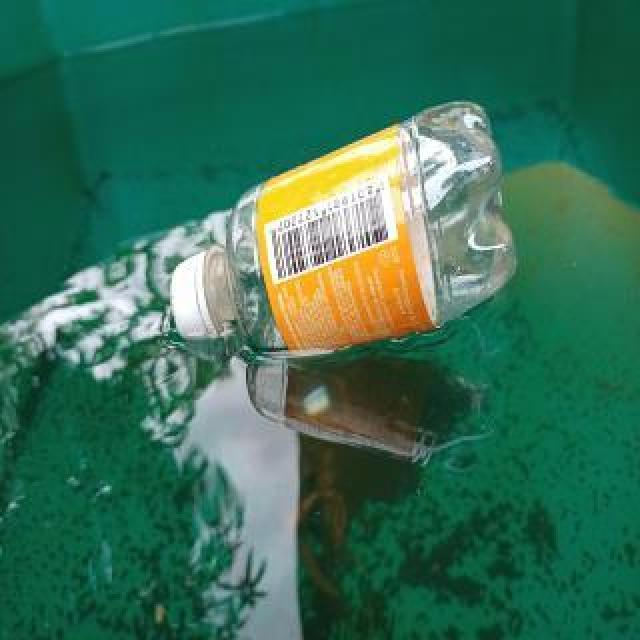bottle: (167, 94, 521, 362)
